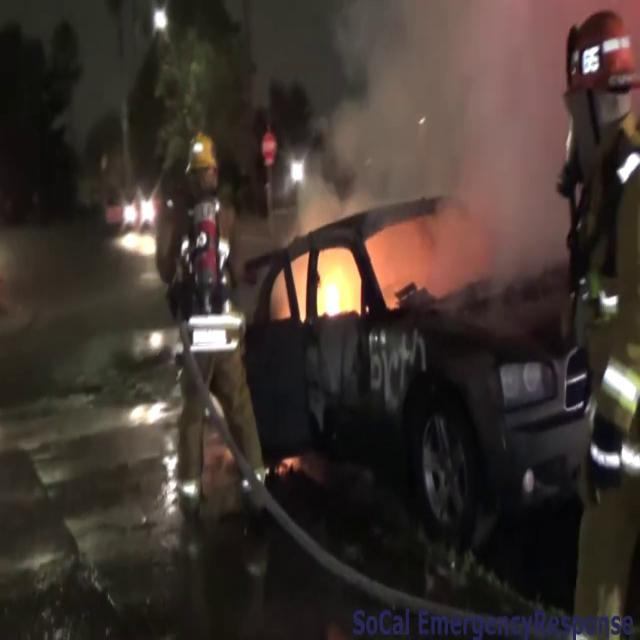Fire: (312, 245, 364, 325)
Smoke: (296, 0, 602, 282)
